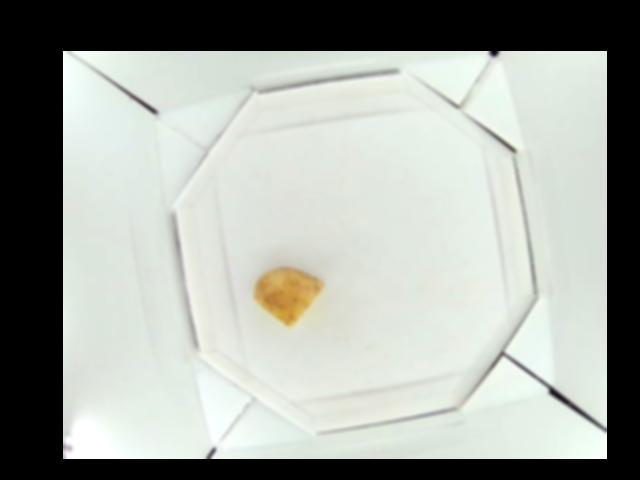Potato: (255, 265, 323, 325)
